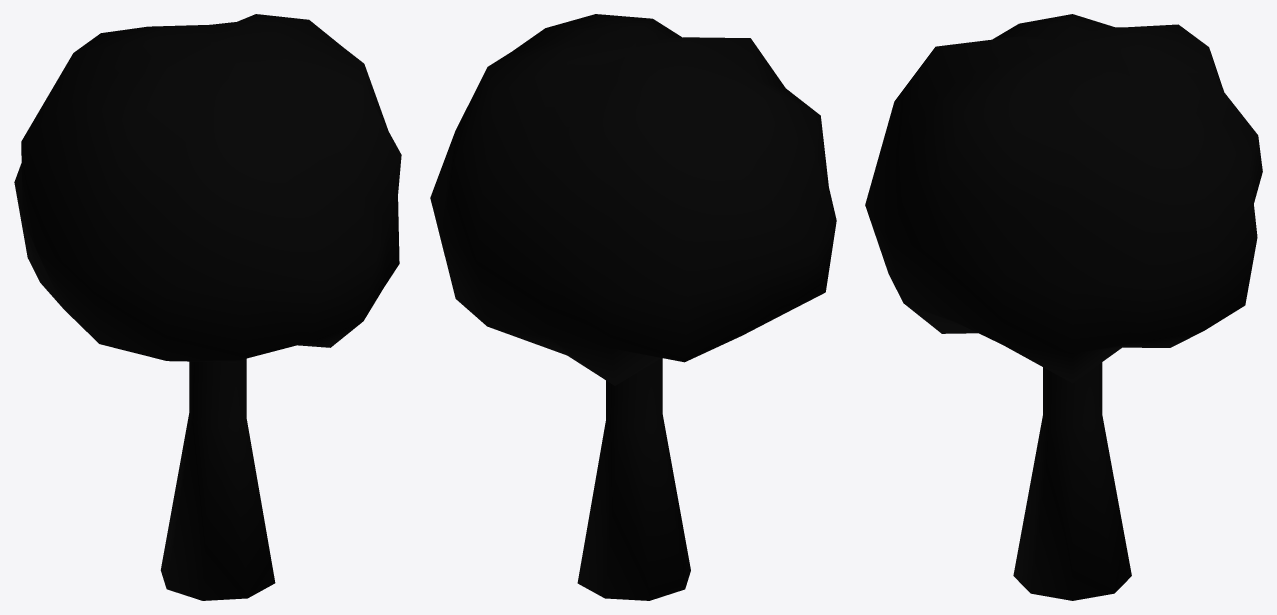
Rendered from Tree.glb.
The picture shows the model from 3 angles, left to right: view 1: azimuth 30°, elevation 25°; view 2: azimuth 150°, elevation 25°; view 3: azimuth 270°, elevation 25°; orthographic projection.
Visible parts, largest first — view 1: Cylinder.002; view 2: Cylinder.002; view 3: Cylinder.002.
Part boxes in pixels (box(x1,y1,x2,y2)): Cylinder.002: box(14, 14, 401, 600); Cylinder.002: box(430, 14, 836, 600); Cylinder.002: box(865, 14, 1262, 600).
Bounding box in the file's own units: 6.77 × 9.93 × 6.71.
2 materials, 2 textured.
